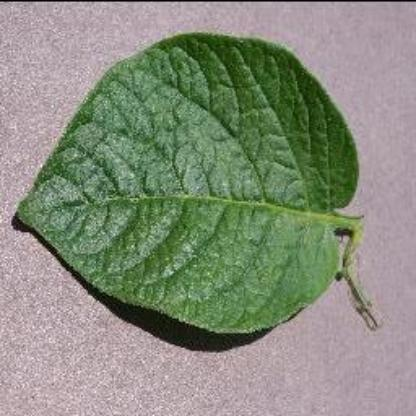Healthy-plant: (16, 31, 376, 338)
